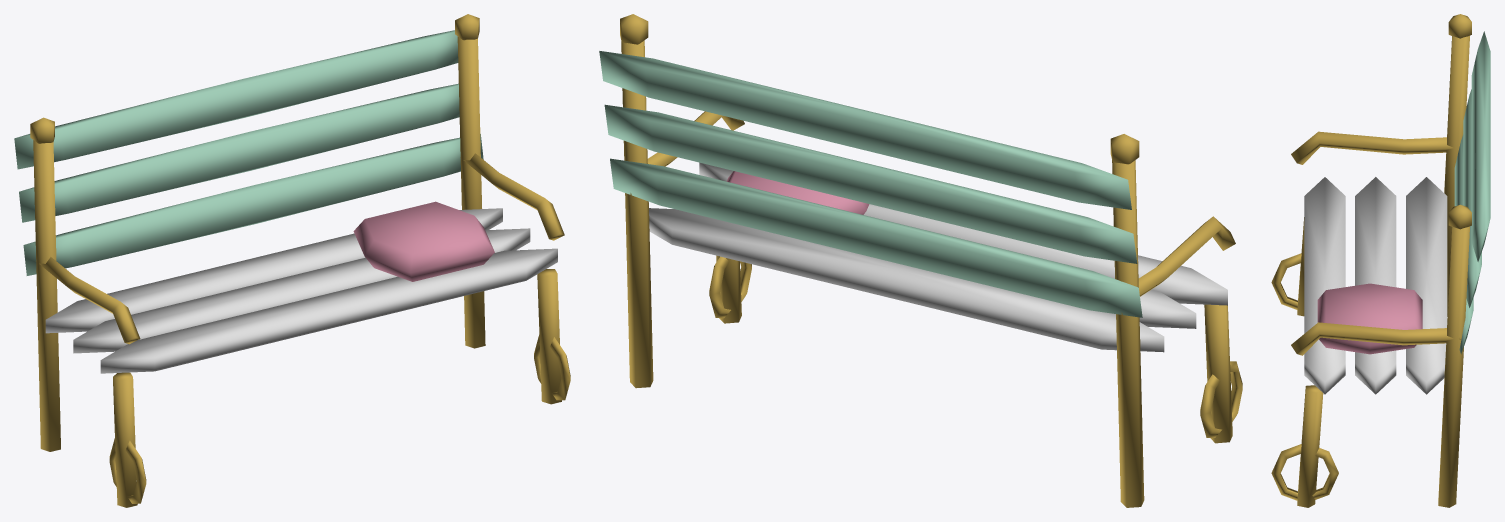
Rendered from fae_bench.gltf.
The picture shows the model from 3 angles, left to right: view 1: azimuth 30°, elevation 25°; view 2: azimuth 150°, elevation 25°; view 3: azimuth 270°, elevation 25°; orthographic projection. The views are drawn at different scales.
Visible parts, largest first — view 1: fae_bench; view 2: fae_bench; view 3: fae_bench.
Boxes of the visible parts, x1,y1,x2,y2 form: fae_bench: [14, 14, 570, 507]; fae_bench: [599, 14, 1242, 507]; fae_bench: [1271, 14, 1490, 507].
Size of what is drawn, in the model's own units: 1.72 by 1.17 by 0.7769.
